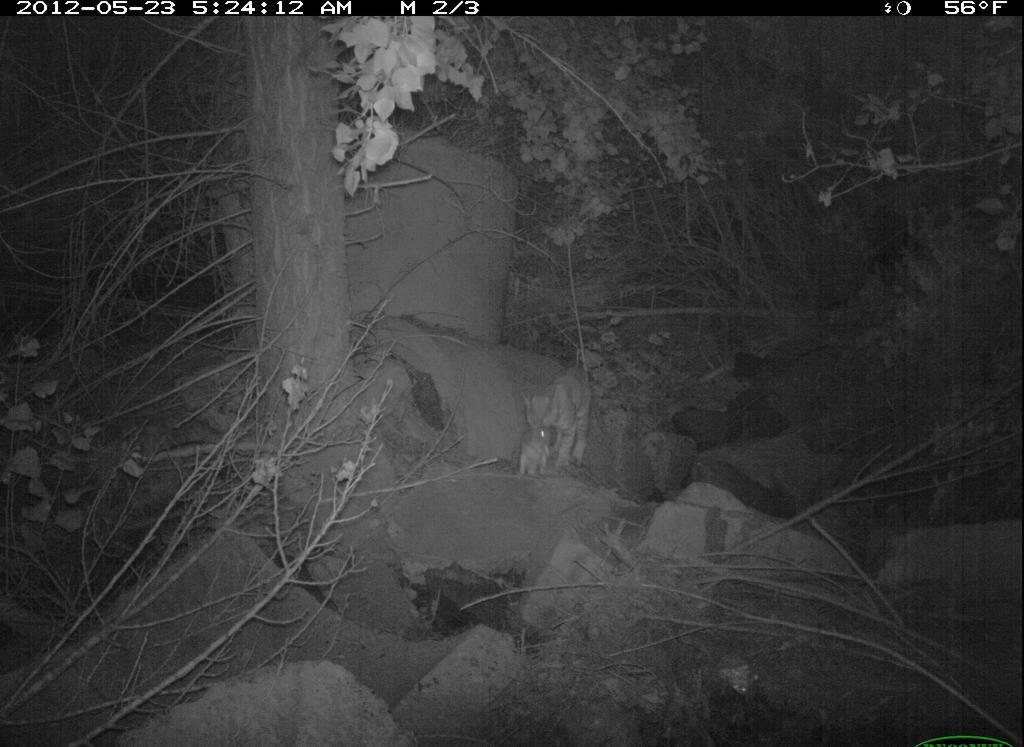bobcat: (519, 358, 601, 473)
rabbit: (516, 422, 557, 482)
